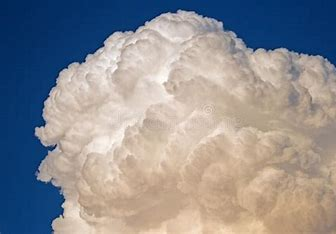Cumulus: (29, 10, 336, 234)
